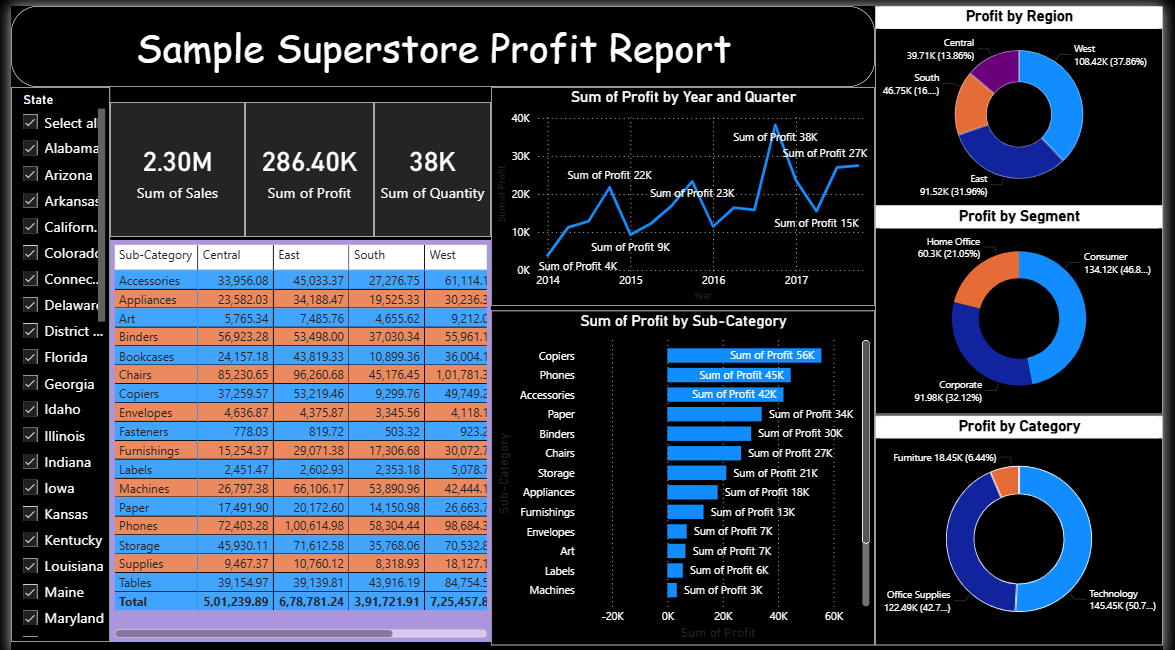

This screenshot's page, from the dashboard's own definition file:
{"tool":"powerbi","page":{"name":"Page 1","canvas":[1280,720],"ordinal":0},"visuals":[{"type":"textbox","box":[0,0,960,90],"z":0},{"type":"donutChart","title":"Profit by Category","fields":{"Category":["Orders.Category"],"Y":["Sum(Orders.Profit)"]},"box":[960,455,320,255],"z":1000},{"type":"donutChart","title":"Profit by Segment","fields":{"Category":["Orders.Segment"],"Y":["Sum(Orders.Profit)"]},"box":[960,221.7,320,231.7],"z":2000},{"type":"donutChart","title":"Profit by Region","fields":{"Y":["Sum(Orders.Profit)"],"Category":["Orders.Region"]},"box":[960,0,320,221.7],"z":3000},{"type":"barChart","fields":{"Y":["Sum(Orders.Profit)"],"Category":["Orders.Sub-Category"]},"box":[533.3,338.3,426.7,371.7],"z":4000},{"type":"lineChart","fields":{"Category":["Orders.Order Date.Variation.Date Hierarchy.Year","Orders.Order Date.Variation.Date Hierarchy.Quarter","Orders.Order Date.Variation.Date Hierarchy.Month","Orders.Order Date.Variation.Date Hierarchy.Day"],"Y":["Sum(Orders.Profit)"]},"box":[533.3,90,426.7,243.3],"z":5000},{"type":"slicer","fields":{"Values":["Orders.State"]},"box":[0,90,110,616.7],"z":6000},{"type":"pivotTable","fields":{"Rows":["Orders.Sub-Category"],"Columns":["Orders.Region"],"Values":["Sum(Orders.Sales)"]},"box":[110,260,423.3,446.7],"z":7000},{"type":"card","fields":{"Values":["Sum(Orders.Sales)"]},"box":[110,106.7,150,150],"z":8000},{"type":"card","fields":{"Values":["Sum(Orders.Profit)"]},"box":[260,106.7,143.3,150],"z":9000},{"type":"card","fields":{"Values":["Sum(Orders.Quantity)"]},"box":[403.3,106.7,130,150],"z":10000}]}

Visuals, with their boxes in screenshot pixels (x1, y1, x2, y2), scaled from the page's 1280x720 canvas onto the 1175x650 screenshot:
textbox: BBox(0, 0, 881, 81)
"Profit by Category" donutChart: BBox(881, 411, 1174, 641)
"Profit by Segment" donutChart: BBox(881, 200, 1174, 409)
"Profit by Region" donutChart: BBox(881, 0, 1174, 200)
barChart - Sum(Orders.Profit) x Orders.Sub-Category: BBox(490, 305, 881, 641)
lineChart - Orders.Order Date.Variation.Date Hierarchy.Year x Orders.Order Date.Variation.Date Hierarchy.Quarter: BBox(490, 81, 881, 301)
slicer - Orders.State: BBox(0, 81, 101, 638)
pivotTable - Orders.Sub-Category x Orders.Region: BBox(101, 235, 490, 638)
card - Sum(Orders.Sales): BBox(101, 96, 239, 232)
card - Sum(Orders.Profit): BBox(239, 96, 370, 232)
card - Sum(Orders.Quantity): BBox(370, 96, 490, 232)
